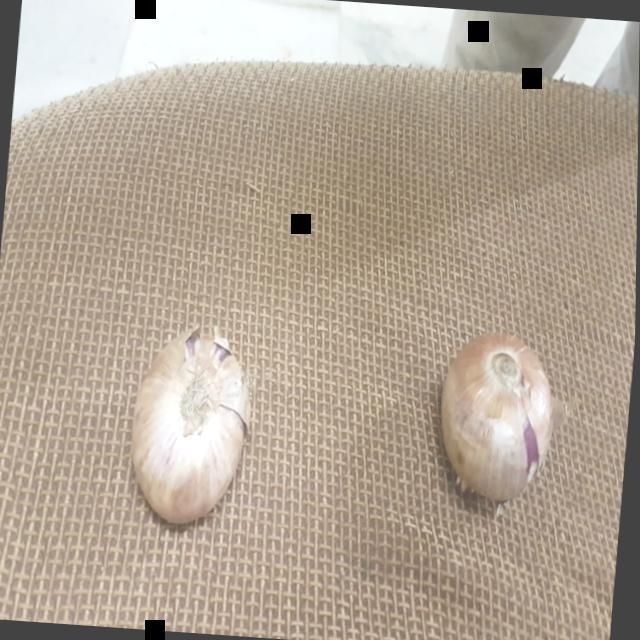onion: (108, 314, 269, 537), (420, 318, 574, 521)
